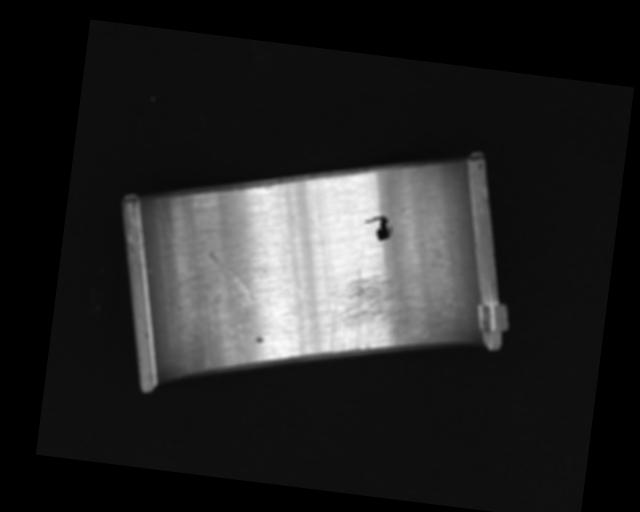blot: (362, 213, 394, 242)
bruise: (252, 334, 263, 344)
nick: (263, 180, 318, 299), (146, 195, 201, 285), (204, 251, 259, 303), (234, 297, 252, 351)
scratch: (317, 265, 444, 366)
